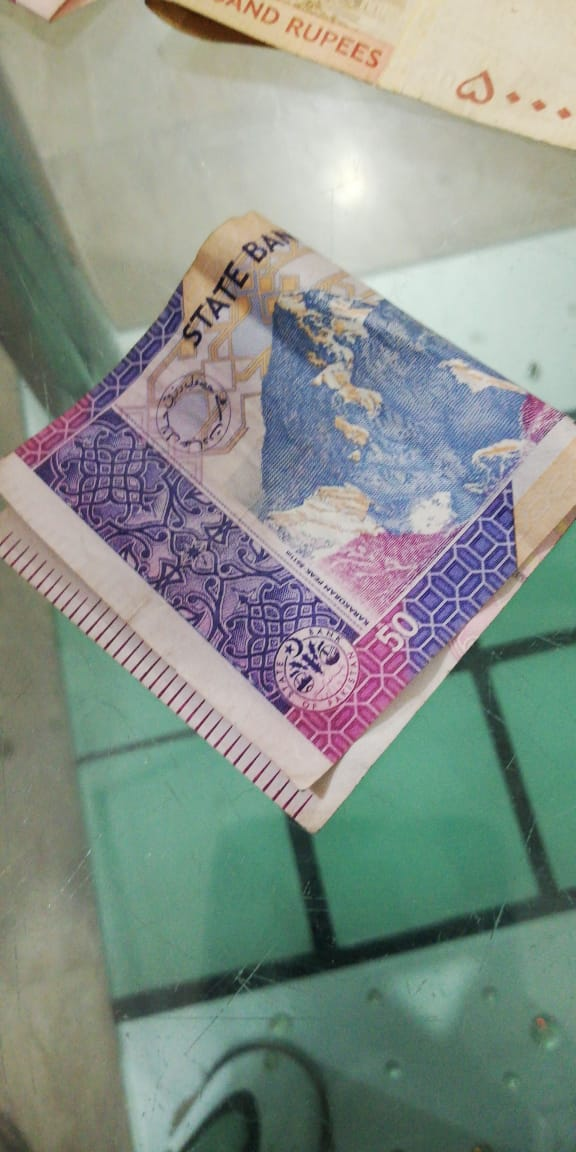50 rupee: (18, 218, 576, 848)
